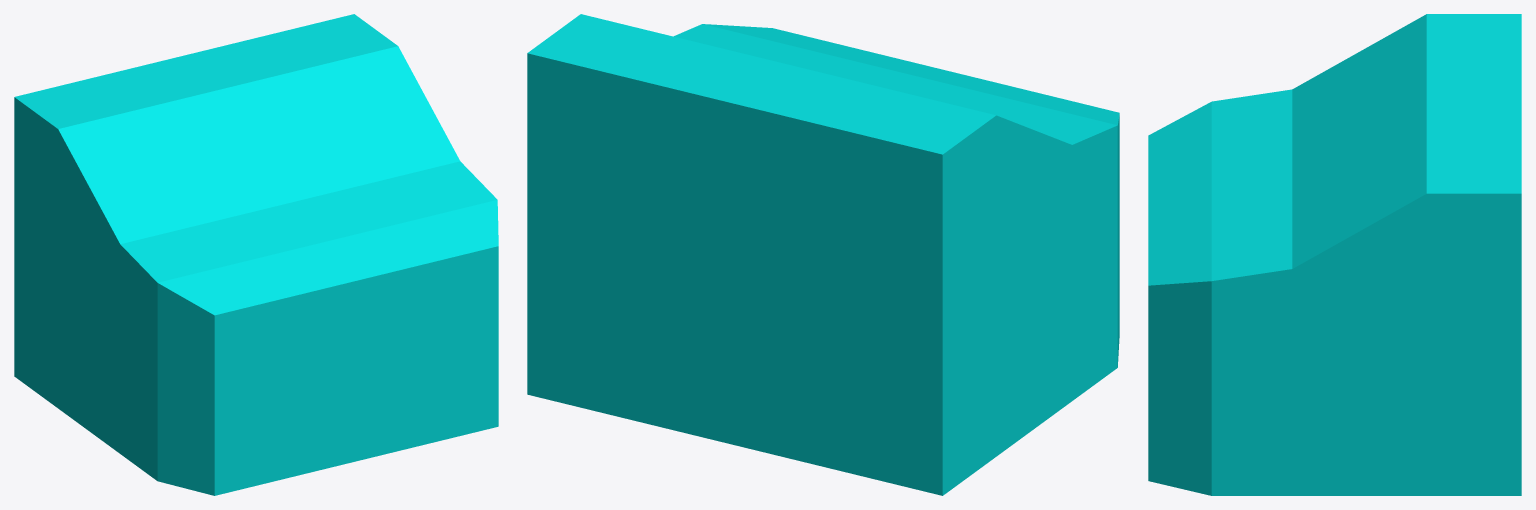
File: SM_Env_Rock_Stairs_03_Collision.fbx
3 renders of one model, left to right at view 1: azimuth 30°, elevation 25°; view 2: azimuth 150°, elevation 25°; view 3: azimuth 270°, elevation 25°, orthographic. The views are drawn at different scales.
Parts seen in each view (by area): view 1: SM_Env_Rock_Stairs_03_Collision; view 2: SM_Env_Rock_Stairs_03_Collision; view 3: SM_Env_Rock_Stairs_03_Collision.
Part boxes in pixels (x1=…): SM_Env_Rock_Stairs_03_Collision: x1=14, y1=14, x2=498, y2=495; SM_Env_Rock_Stairs_03_Collision: x1=527, y1=14, x2=1119, y2=495; SM_Env_Rock_Stairs_03_Collision: x1=1148, y1=14, x2=1521, y2=495.
Bounding box in the file's own units: 260 × 204 × 229.
